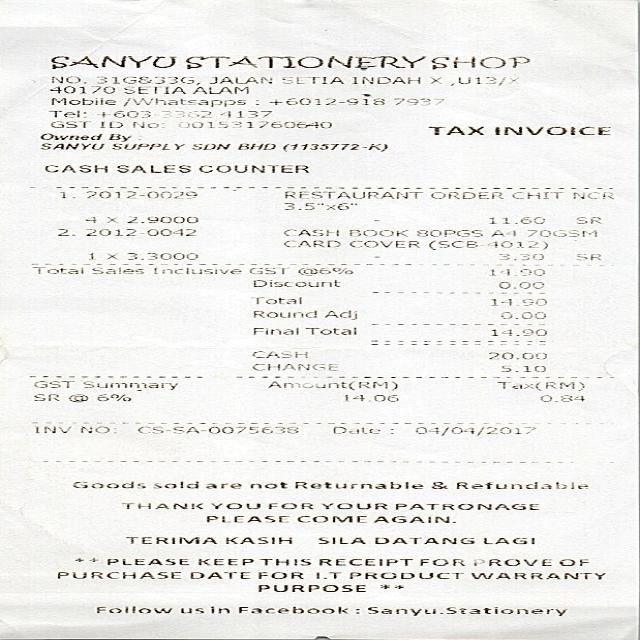text: (49, 54, 530, 70), (95, 108, 271, 117), (136, 425, 297, 434), (414, 424, 534, 435), (268, 380, 396, 390), (444, 606, 564, 616), (80, 190, 196, 200), (173, 121, 333, 128), (454, 481, 586, 489), (268, 96, 384, 105), (493, 126, 609, 135), (95, 75, 198, 85), (122, 98, 244, 106), (80, 380, 176, 390), (469, 572, 604, 579), (348, 571, 462, 579), (495, 380, 585, 390), (292, 481, 420, 488), (198, 164, 307, 172), (394, 503, 537, 509), (57, 571, 179, 578), (281, 143, 386, 151), (435, 239, 538, 247), (373, 536, 473, 544), (250, 362, 338, 371), (152, 266, 239, 275), (236, 606, 346, 613), (84, 228, 193, 235), (255, 584, 364, 591), (123, 536, 215, 544), (37, 131, 97, 143), (251, 279, 338, 287), (368, 606, 442, 615), (448, 76, 521, 85), (205, 514, 286, 522), (106, 557, 187, 565), (318, 558, 410, 565), (470, 558, 550, 566), (114, 164, 189, 172), (294, 266, 354, 276), (276, 75, 342, 84), (281, 202, 355, 210), (523, 229, 597, 237), (70, 480, 144, 488), (124, 215, 197, 223), (346, 240, 419, 248), (124, 252, 197, 260), (371, 515, 454, 522), (50, 96, 114, 105), (112, 142, 183, 150), (349, 76, 419, 84), (296, 514, 365, 522), (485, 267, 546, 276), (414, 229, 482, 237), (94, 606, 171, 613), (223, 536, 290, 544), (486, 215, 545, 224), (488, 328, 547, 337), (46, 85, 112, 93), (208, 75, 272, 83), (42, 164, 106, 172), (429, 191, 502, 198), (121, 85, 184, 93), (119, 502, 202, 508), (40, 142, 102, 150), (427, 126, 482, 135), (318, 502, 386, 509), (281, 239, 340, 247), (486, 351, 545, 359), (190, 85, 247, 93), (489, 298, 546, 306), (341, 394, 397, 402), (252, 310, 314, 317), (392, 97, 446, 105), (29, 266, 83, 274), (89, 266, 143, 274), (187, 571, 248, 578), (331, 425, 378, 434), (348, 229, 408, 236), (248, 296, 300, 304), (303, 326, 355, 334), (199, 557, 251, 565), (494, 281, 545, 289), (280, 228, 338, 235), (494, 253, 544, 261), (495, 311, 545, 319), (251, 350, 308, 357), (512, 190, 560, 198), (498, 364, 546, 372), (536, 394, 584, 402), (316, 536, 364, 544), (251, 326, 297, 334), (49, 118, 89, 127), (482, 537, 532, 544), (246, 266, 289, 274), (178, 606, 227, 613), (30, 380, 71, 388), (263, 558, 309, 565), (256, 571, 302, 578), (189, 142, 229, 150), (418, 558, 463, 565), (235, 142, 274, 150), (572, 190, 611, 198), (33, 425, 71, 433), (378, 191, 421, 198), (153, 481, 196, 488), (78, 424, 108, 434), (96, 392, 129, 401), (209, 502, 258, 508), (48, 109, 84, 117), (322, 310, 354, 319), (50, 75, 84, 83), (266, 502, 311, 508), (248, 481, 286, 488), (130, 121, 162, 129), (573, 252, 601, 261), (558, 558, 586, 566), (203, 482, 240, 488), (97, 120, 122, 128), (106, 133, 130, 141), (488, 229, 515, 236), (31, 394, 58, 401), (574, 216, 600, 223), (313, 571, 339, 578), (66, 393, 86, 402), (56, 228, 72, 235), (430, 481, 446, 488), (104, 252, 117, 260), (57, 190, 67, 198), (83, 216, 94, 223), (83, 253, 95, 259), (428, 76, 439, 82), (104, 216, 115, 222), (353, 608, 358, 613)
